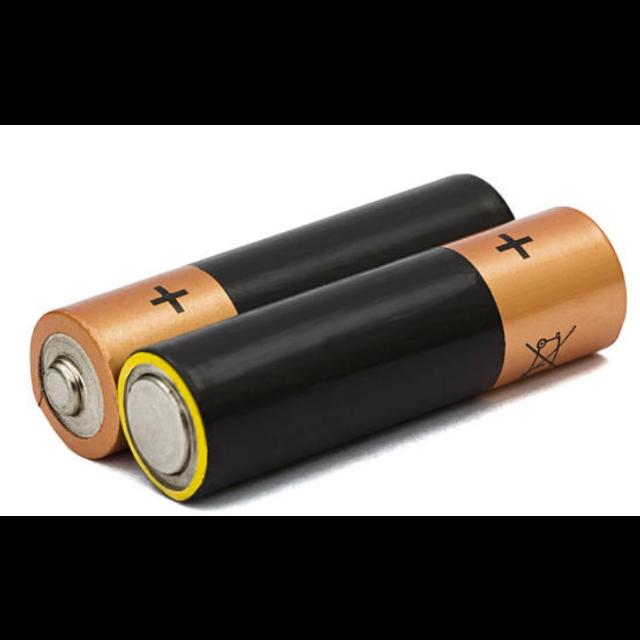Battery: (118, 206, 627, 500), (30, 173, 514, 456)
